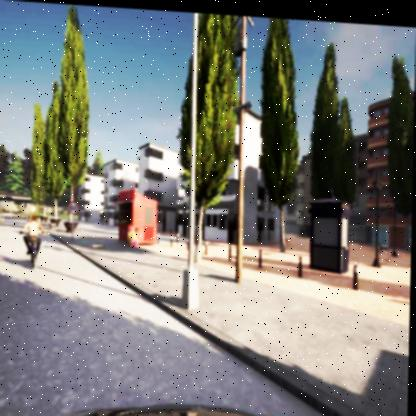bike: (19, 211, 48, 269)
